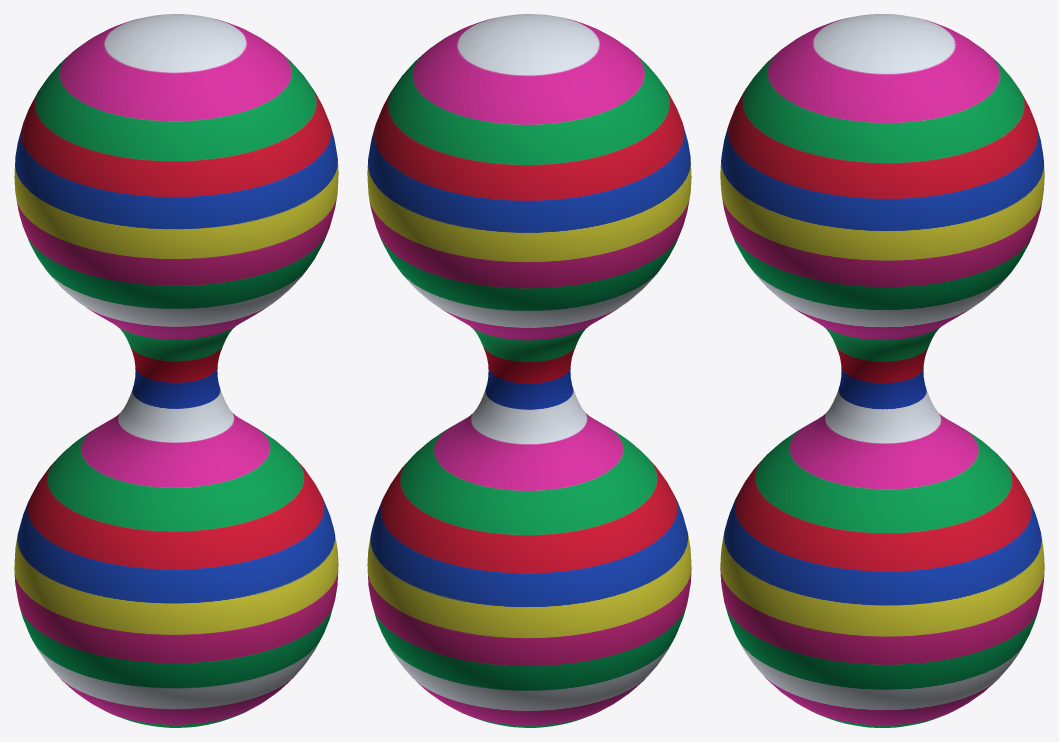
The model's file is C-11_Onstick.fbx.
3 views of the same model, side by side, from view 1: azimuth 30°, elevation 25°; view 2: azimuth 150°, elevation 25°; view 3: azimuth 270°, elevation 25° (orthographic).
Parts seen in each view (by area): view 1: C-11; view 2: C-11; view 3: C-11.
Boxes of the visible parts, x1=… form: C-11: x1=14, y1=14, x2=338, y2=727; C-11: x1=367, y1=14, x2=691, y2=727; C-11: x1=720, y1=14, x2=1044, y2=727.
Bounding box in the file's own units: 0.5527 × 1.29 × 0.5526.
Materials: 1 (1 with a texture image).
